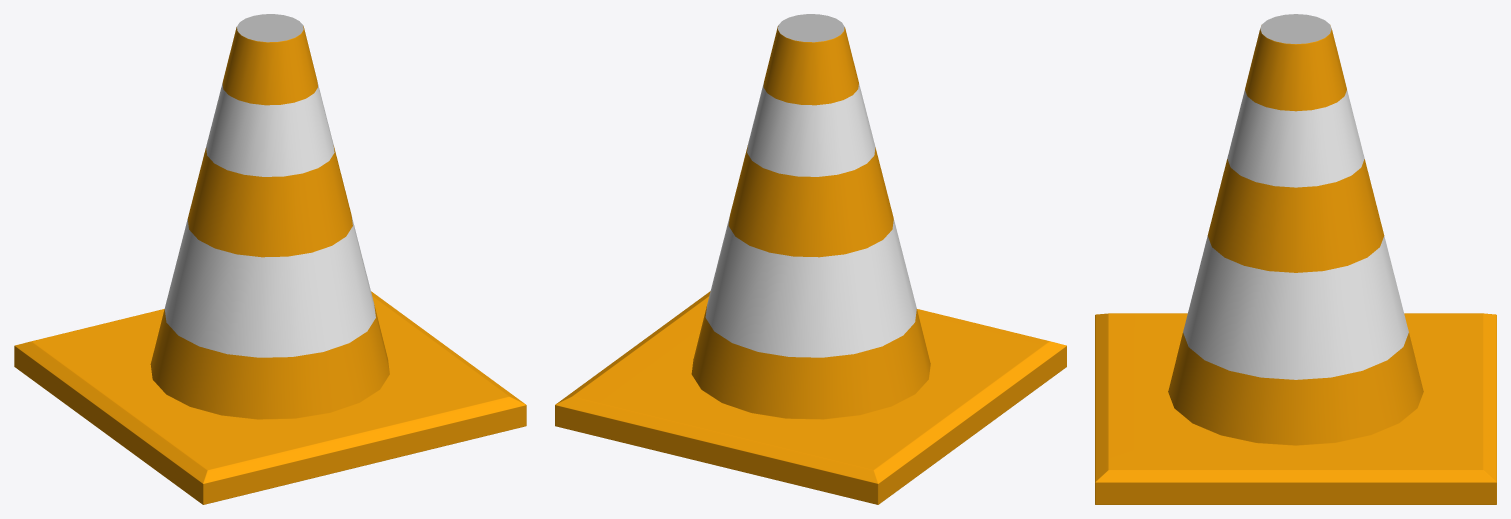
The model's file is TrafficCone.glb.
The picture shows the model from 3 angles, left to right: view 1: azimuth 30°, elevation 25°; view 2: azimuth 150°, elevation 25°; view 3: azimuth 270°, elevation 25°; orthographic projection. The views are drawn at different scales.
Parts seen in each view (by area): view 1: pCylinder1, pCube1; view 2: pCylinder1, pCube1; view 3: pCylinder1, pCube1.
Part boxes in pixels (bbox=[...]): pCylinder1: bbox=[150, 14, 389, 419]; pCube1: bbox=[14, 291, 526, 504]; pCylinder1: bbox=[691, 14, 930, 419]; pCube1: bbox=[555, 291, 1066, 504]; pCylinder1: bbox=[1168, 14, 1423, 445]; pCube1: bbox=[1095, 313, 1496, 504].
Bounding box in the file's own units: 0.0697 × 0.0759 × 0.0705.
4 materials, 3 textured.
